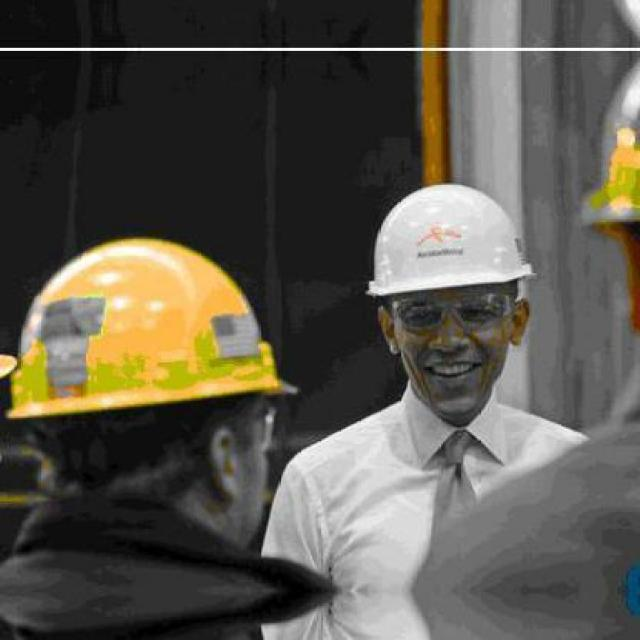helmet: (0, 230, 329, 546), (343, 155, 543, 417)
